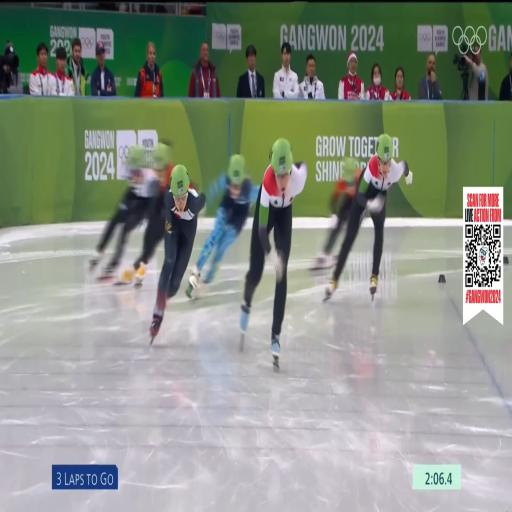Skater: (240, 139, 307, 369), (325, 135, 412, 300), (187, 155, 259, 298), (150, 165, 205, 344), (90, 146, 159, 279), (122, 139, 173, 287), (312, 158, 361, 270)
